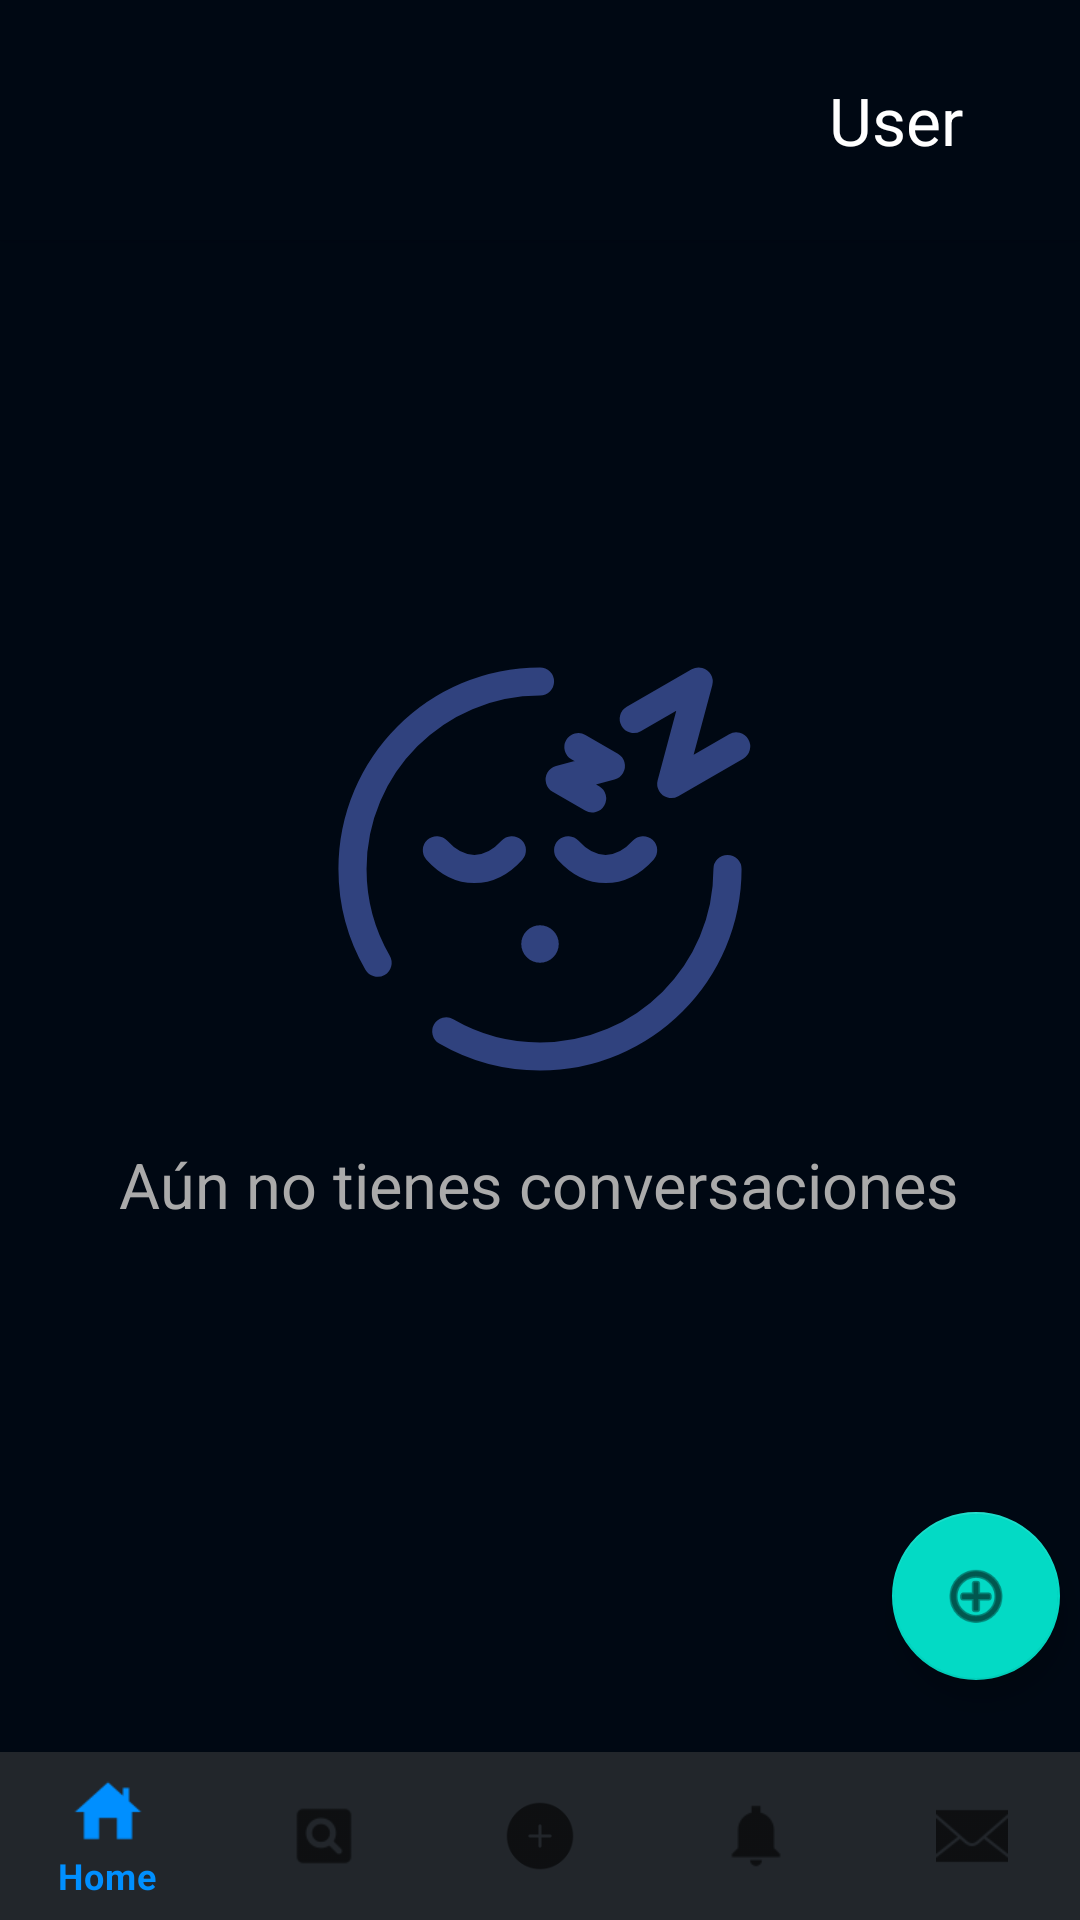

Point at icon controls on the screen. Image size 1080 x 1920, points as point (x, y).
Nuevo mensaje: point (976, 1596)
